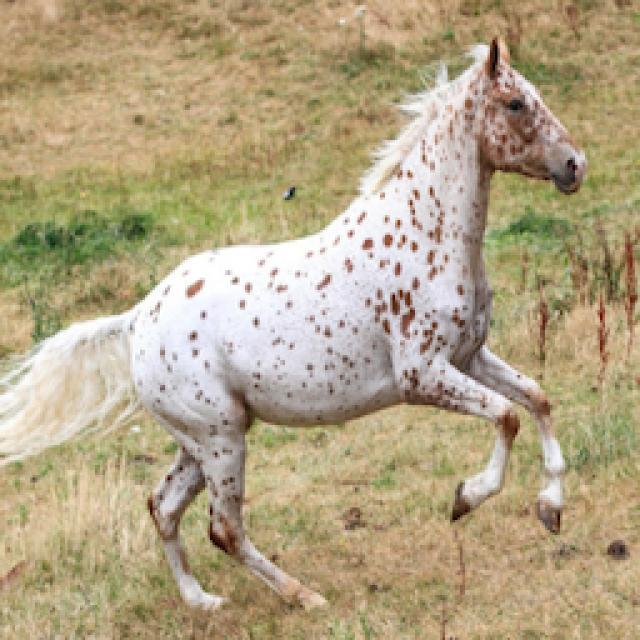Horse: (0, 30, 595, 622)
